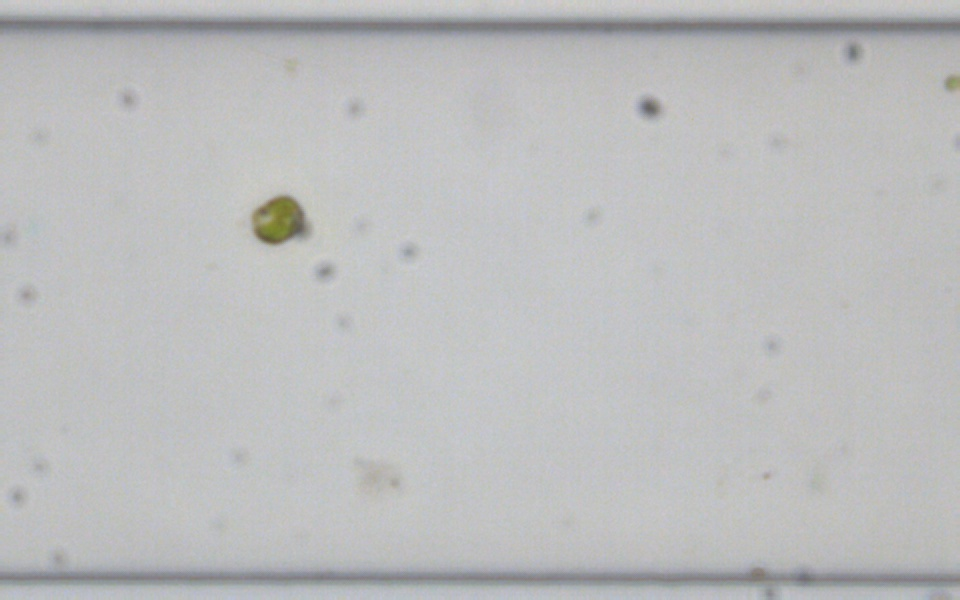Chlorella: (942, 72, 959, 91)
Platymonas: (248, 191, 305, 245)
